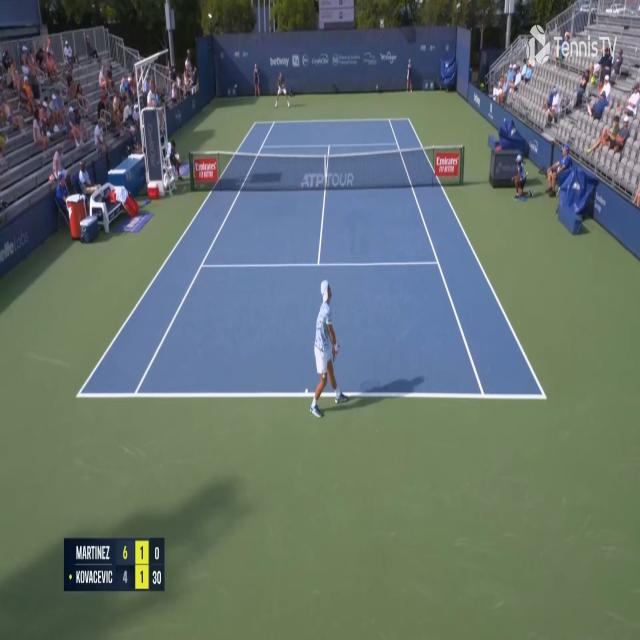tennis-player: (308, 278, 347, 421), (273, 71, 292, 110)
